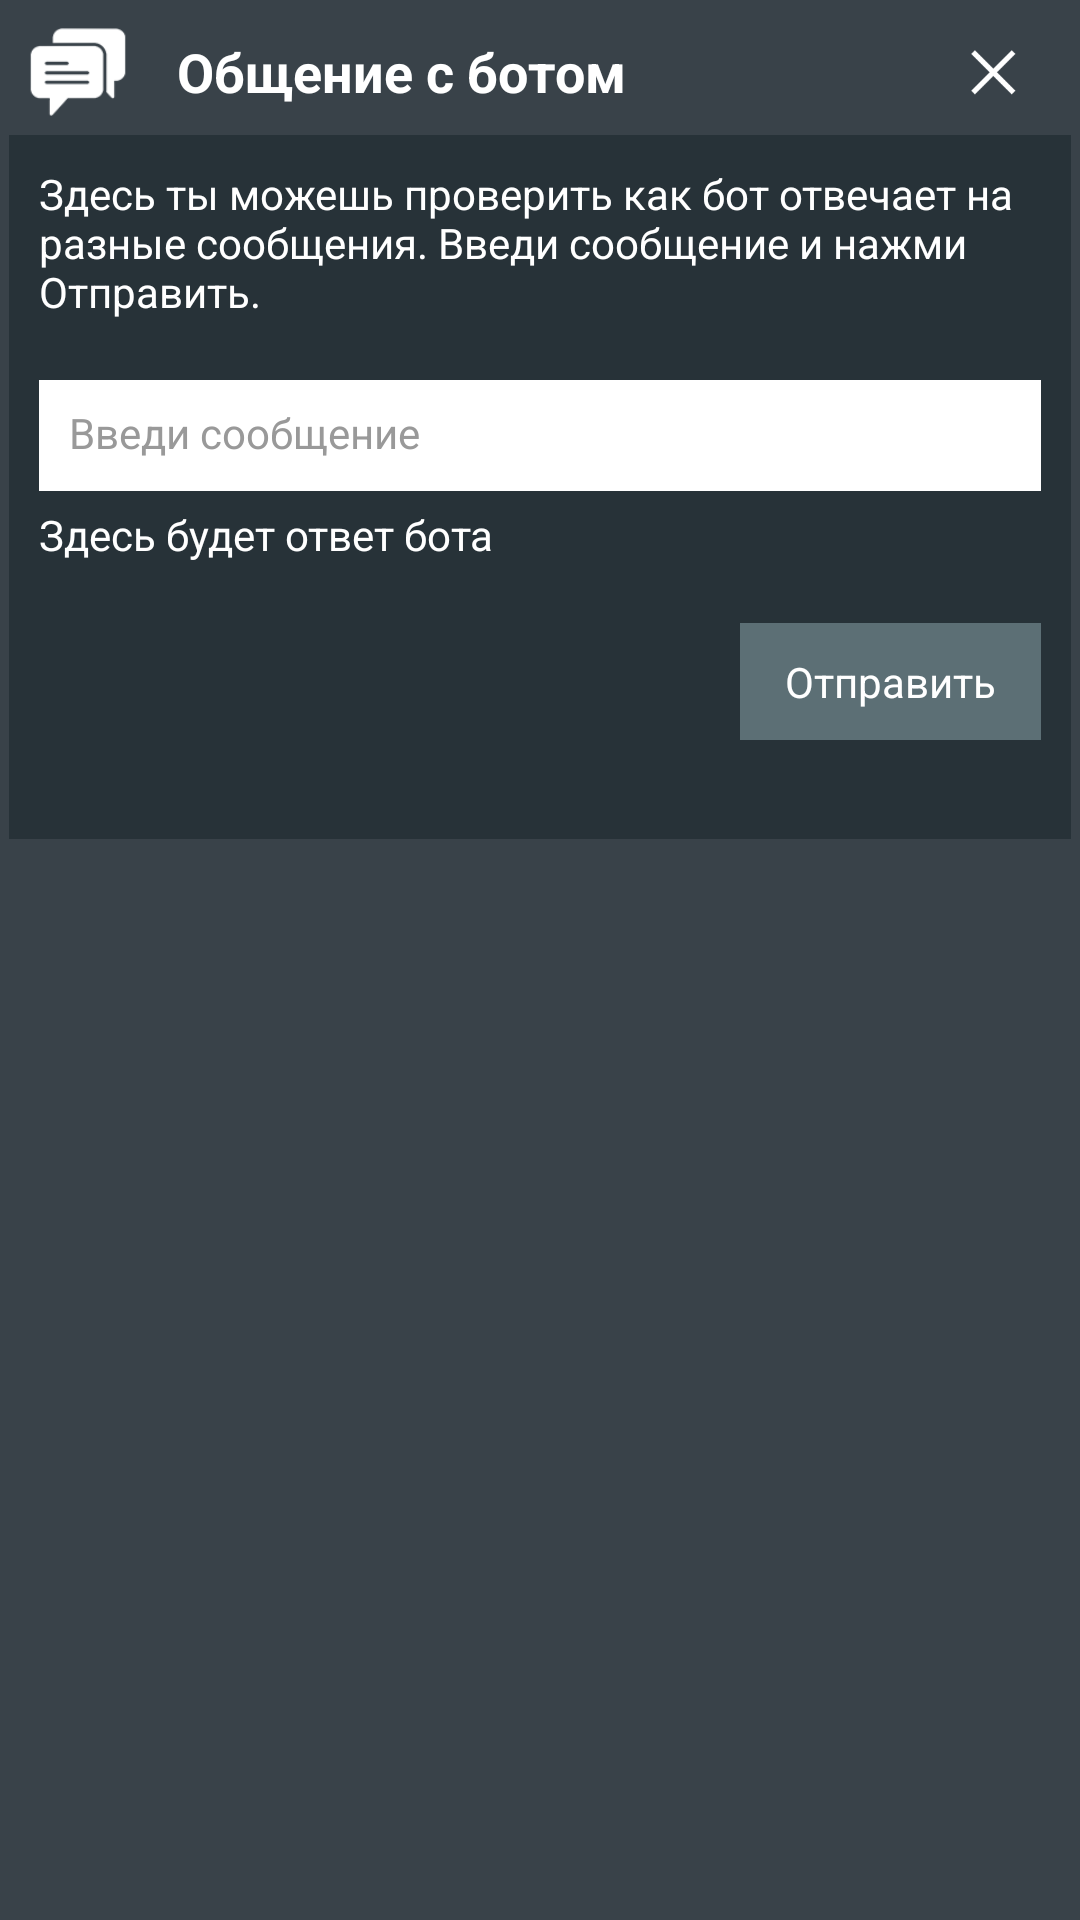

Icons on this 1080 x 1920 Android screen, each with its box as BBox(x1, y1, x2, y2):
chat: BBox(30, 28, 126, 116)
cross: BBox(971, 50, 1016, 95)
